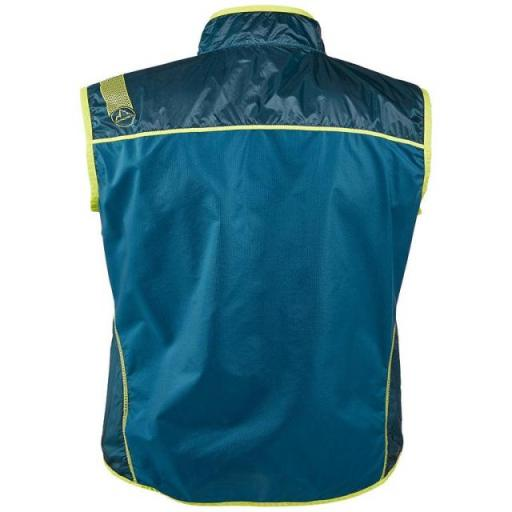vest: (8, 5, 498, 512)
